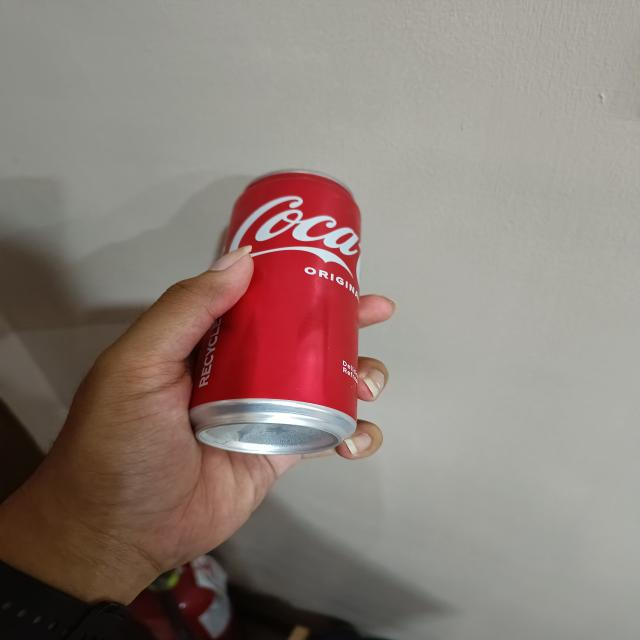coke: (196, 174, 361, 452)
